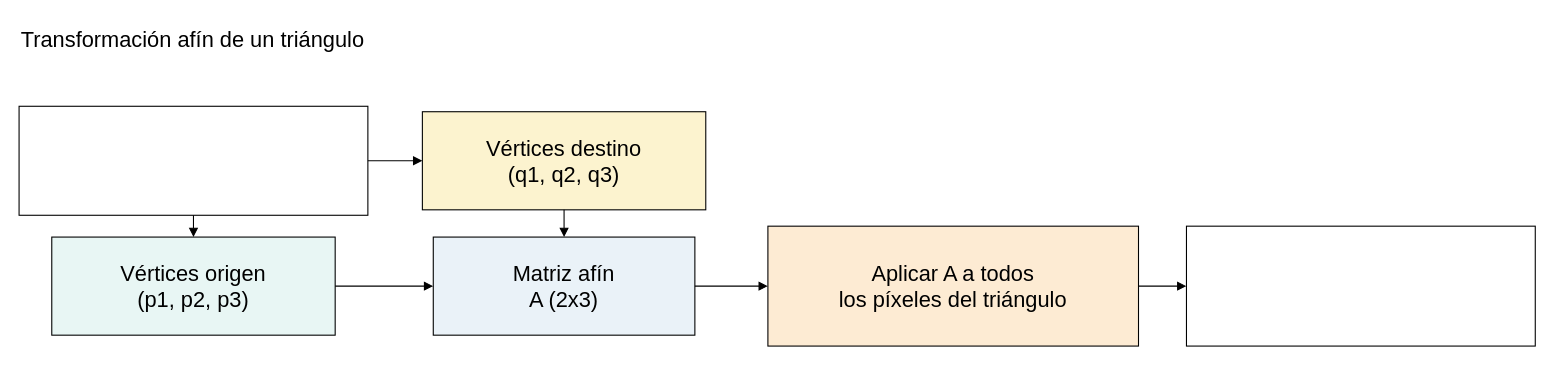
The diagram is 1554 pixels wide and 365 high, and some of its shapes have lost their labels. The shapes that lost their labels are listed below. From the top down, each one's centre as x and y in pixels, then its label:
(x=193, y=160): Triángulo en imagen original (landmarks)
(x=1360, y=285): Triángulo en forma estándar (alineado)
